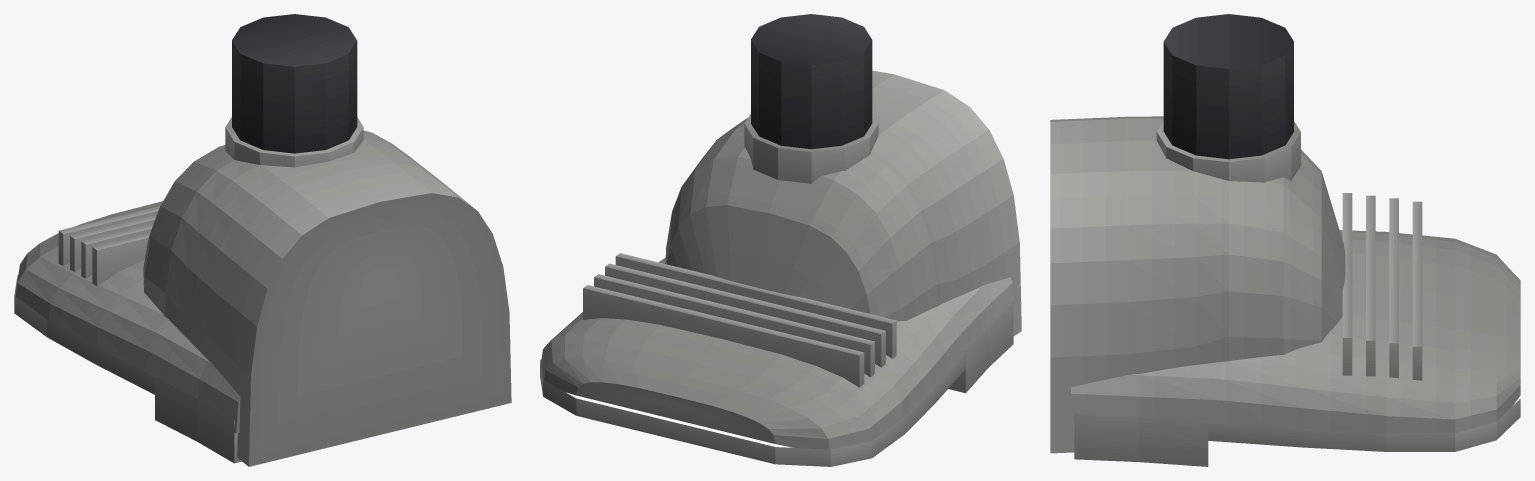
Rendered from streetlight_gees.obj.
3 views of the same model, side by side, from view 1: azimuth 30°, elevation 25°; view 2: azimuth 150°, elevation 25°; view 3: azimuth 270°, elevation 25° (orthographic). The views are drawn at different scales.
Visible parts, largest first — view 1: fixture; view 2: fixture; view 3: fixture.
Part boxes in pixels (x1=…): fixture: x1=14, y1=14, x2=511, y2=466; fixture: x1=540, y1=14, x2=1021, y2=466; fixture: x1=1050, y1=14, x2=1520, y2=466.
Size of the model in its own units: 0.375 by 0.3512 by 0.4281.
